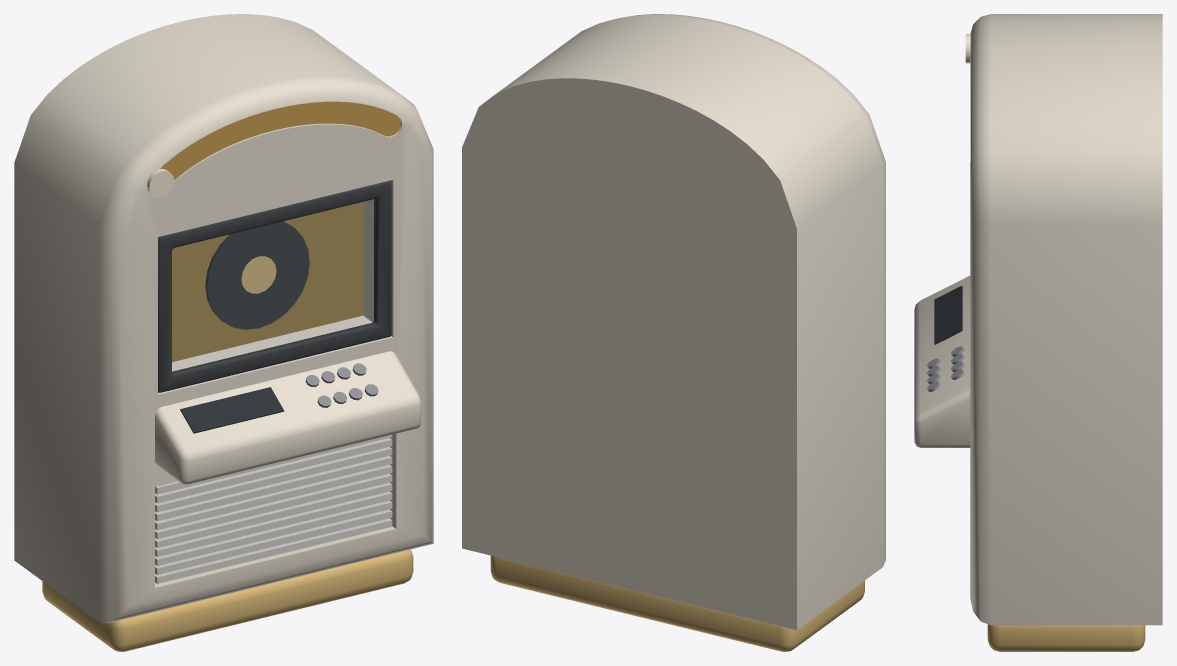
File: jukebox.glb
3 renders of one model, left to right at view 1: azimuth 30°, elevation 25°; view 2: azimuth 150°, elevation 25°; view 3: azimuth 270°, elevation 25°, orthographic.
Parts seen in each view (by area): view 1: JUK_Struct.001, JUK_Vitre, JUK_Gris_Clair.001, JUK_Ocre_Fonce.001, JUK_Ocre_Clair.001, JUK_Anthracite.001, JUK_Disque, JUK_Bandeau, JUK_Ecran, JUK_Gris_Moyen.001, JUK_Curseur; view 2: JUK_Struct.001, JUK_Ocre_Clair.001; view 3: JUK_Struct.001, JUK_Ocre_Clair.001, JUK_Ecran, JUK_Gris_Moyen.001.
Boxes of the visible parts, x1=… form: JUK_Struct.001: x1=14, y1=14, x2=433, y2=623; JUK_Vitre: x1=172, y1=200, x2=373, y2=370; JUK_Gris_Clair.001: x1=155, y1=434, x2=392, y2=583; JUK_Ocre_Fonce.001: x1=172, y1=202, x2=363, y2=361; JUK_Ocre_Clair.001: x1=42, y1=256, x2=413, y2=651; JUK_Anthracite.001: x1=158, y1=180, x2=391, y2=392; JUK_Disque: x1=205, y1=221, x2=309, y2=329; JUK_Bandeau: x1=160, y1=101, x2=400, y2=179; JUK_Ecran: x1=180, y1=387, x2=284, y2=433; JUK_Gris_Moyen.001: x1=305, y1=363, x2=378, y2=407; JUK_Curseur: x1=147, y1=169, x2=174, y2=197; JUK_Struct.001: x1=462, y1=14, x2=885, y2=629; JUK_Ocre_Clair.001: x1=490, y1=555, x2=864, y2=651; JUK_Struct.001: x1=914, y1=14, x2=1162, y2=625; JUK_Ocre_Clair.001: x1=987, y1=624, x2=1145, y2=651; JUK_Ecran: x1=934, y1=285, x2=962, y2=344; JUK_Gris_Moyen.001: x1=927, y1=346, x2=964, y2=391.
Bounding box in the file's own units: 1.1 × 1.7 × 0.71.
